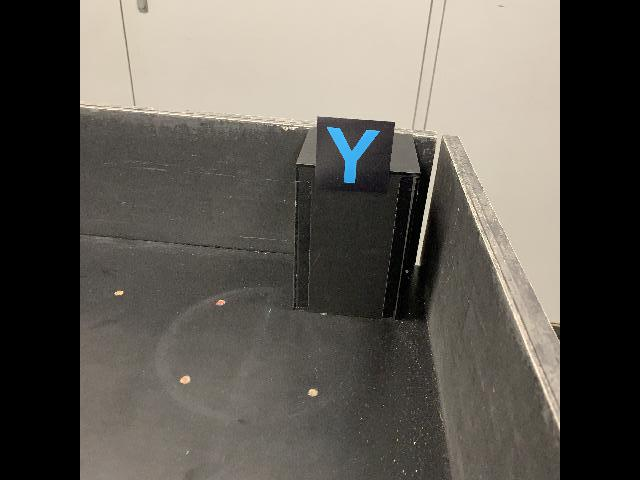alphabet_y: (315, 116, 397, 198)
